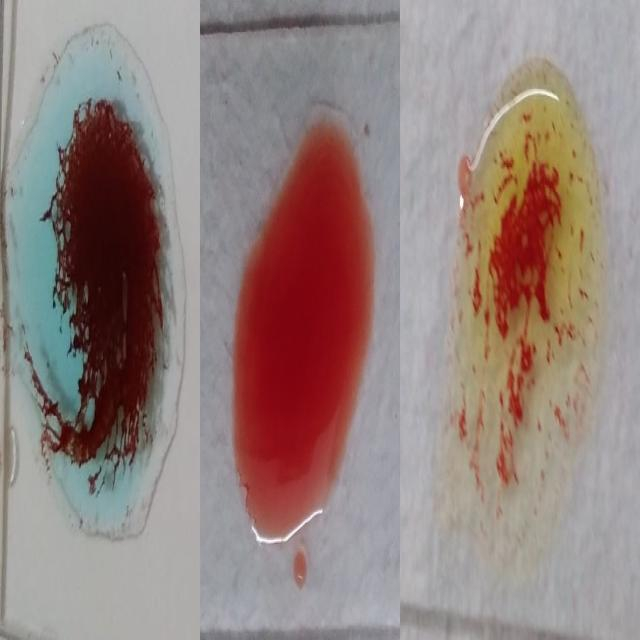A: (7, 18, 181, 542)
B: (446, 58, 601, 566)
